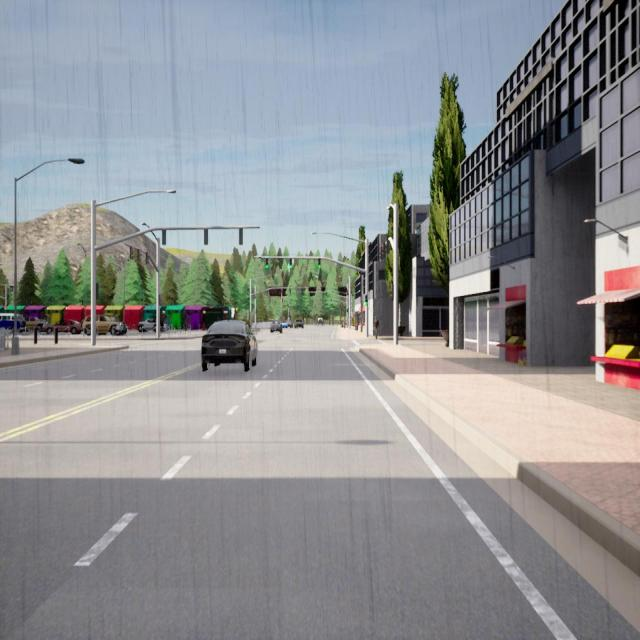Pedestrian: (373, 316, 380, 340)
Vehicle: (201, 319, 258, 372), (82, 313, 128, 337), (42, 319, 82, 334), (0, 313, 25, 332), (138, 316, 164, 333), (25, 316, 46, 332), (270, 319, 282, 334), (294, 319, 304, 329), (285, 320, 293, 329), (280, 320, 288, 329), (317, 317, 323, 327)
traffic_light: (239, 228, 243, 245), (204, 228, 208, 244), (382, 242, 386, 258), (162, 230, 166, 245), (390, 284, 394, 298), (378, 246, 382, 259), (385, 240, 389, 253), (95, 283, 98, 299), (265, 258, 269, 269), (365, 294, 368, 306), (159, 294, 162, 306), (137, 249, 140, 261), (146, 252, 149, 264), (289, 259, 292, 269), (318, 258, 321, 268), (130, 246, 132, 259), (302, 292, 304, 298), (313, 292, 315, 298), (326, 292, 328, 298), (256, 309, 257, 314)
